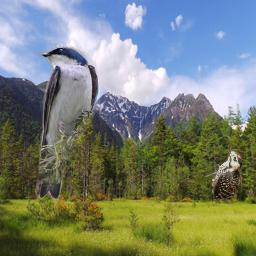Swallow: (33, 45, 100, 200)
Woodpecker: (204, 141, 242, 199)
